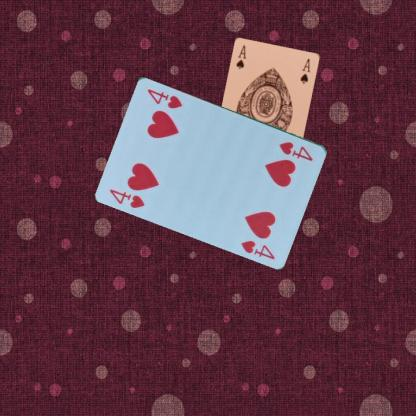4h: (107, 186, 147, 209), (277, 139, 314, 162)
As: (233, 43, 248, 70)
